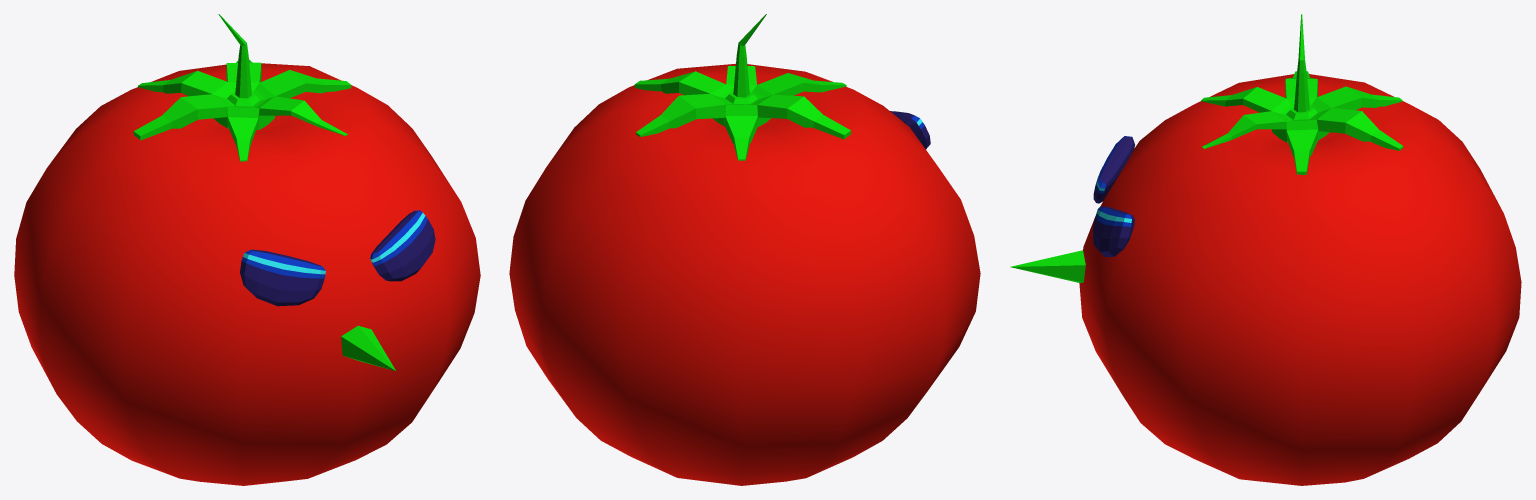
Rendered from Tomato (1).fbx.
3 views of the same model, side by side, from view 1: azimuth 30°, elevation 25°; view 2: azimuth 150°, elevation 25°; view 3: azimuth 270°, elevation 25° (orthographic). The views are drawn at different scales.
Parts seen in each view (by area): view 1: Tomato; view 2: Tomato; view 3: Tomato.
Boxes of the visible parts, x1,y1,x2,y2 form: Tomato: (14,14,480,485); Tomato: (509,14,980,485); Tomato: (1010,14,1521,485).
Size of the model in its own units: 201 by 215 by 227.
